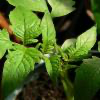Tomato leaf: (1, 41, 39, 98), (8, 5, 46, 47), (65, 24, 98, 64), (38, 8, 57, 55), (43, 54, 60, 88)
